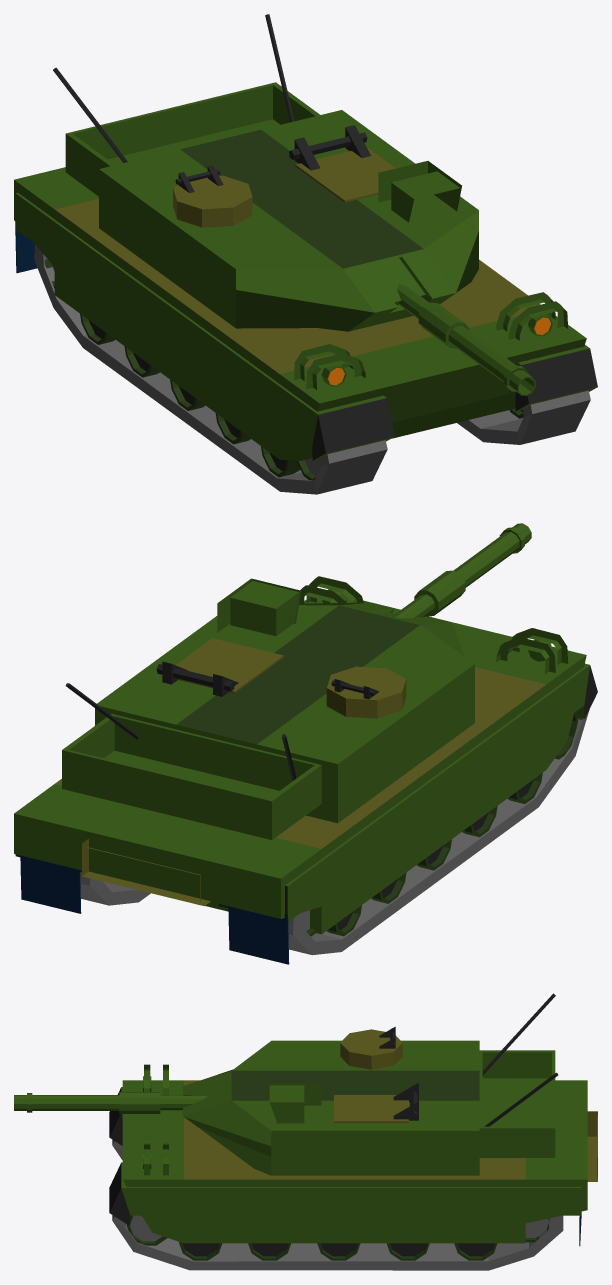
File: Tank-7GG1xDtc8l.glb
The picture shows the model from 3 angles, top to bottom: view 1: azimuth 30°, elevation 25°; view 2: azimuth 150°, elevation 25°; view 3: azimuth 270°, elevation 25°; orthographic projection. The views are drawn at different scales.
Parts seen in each view (by area): view 1: Super_Tank; view 2: Super_Tank; view 3: Super_Tank.
Boxes of the visible parts, left/top/right/bottom form: Super_Tank: left=14, top=14, right=597, bottom=494; Super_Tank: left=14, top=523, right=597, bottom=964; Super_Tank: left=14, top=993, right=597, bottom=1270.
Bounding box in the file's own units: 1.87 × 1.61 × 4.56.
